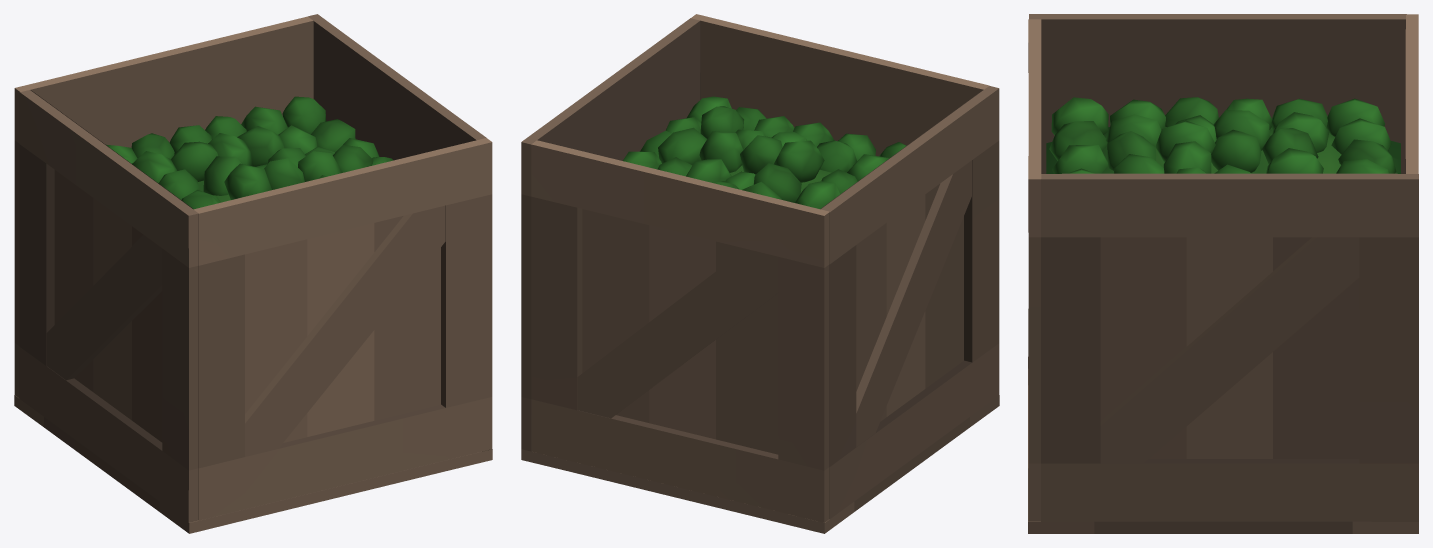
File: consumables-vegetables-producecrate_v3.fbx
3 renders of one model, left to right at view 1: azimuth 30°, elevation 25°; view 2: azimuth 150°, elevation 25°; view 3: azimuth 270°, elevation 25°, orthographic. The views are drawn at different scales.
Visible parts, largest first — view 1: ProduceCrate_v3_base2, ProduceCrate_v3_color; view 2: ProduceCrate_v3_base2, ProduceCrate_v3_color; view 3: ProduceCrate_v3_base2, ProduceCrate_v3_color.
Part boxes in pixels (<box>): ProduceCrate_v3_base2: <box>14,14,492,533</box>; ProduceCrate_v3_color: <box>106,96,393,209</box>; ProduceCrate_v3_base2: <box>521,14,999,533</box>; ProduceCrate_v3_color: <box>623,96,906,208</box>; ProduceCrate_v3_base2: <box>1028,14,1418,533</box>; ProduceCrate_v3_color: <box>1046,97,1400,173</box>.
Bounding box in the file's own units: 0.491 × 0.4913 × 0.4908.
